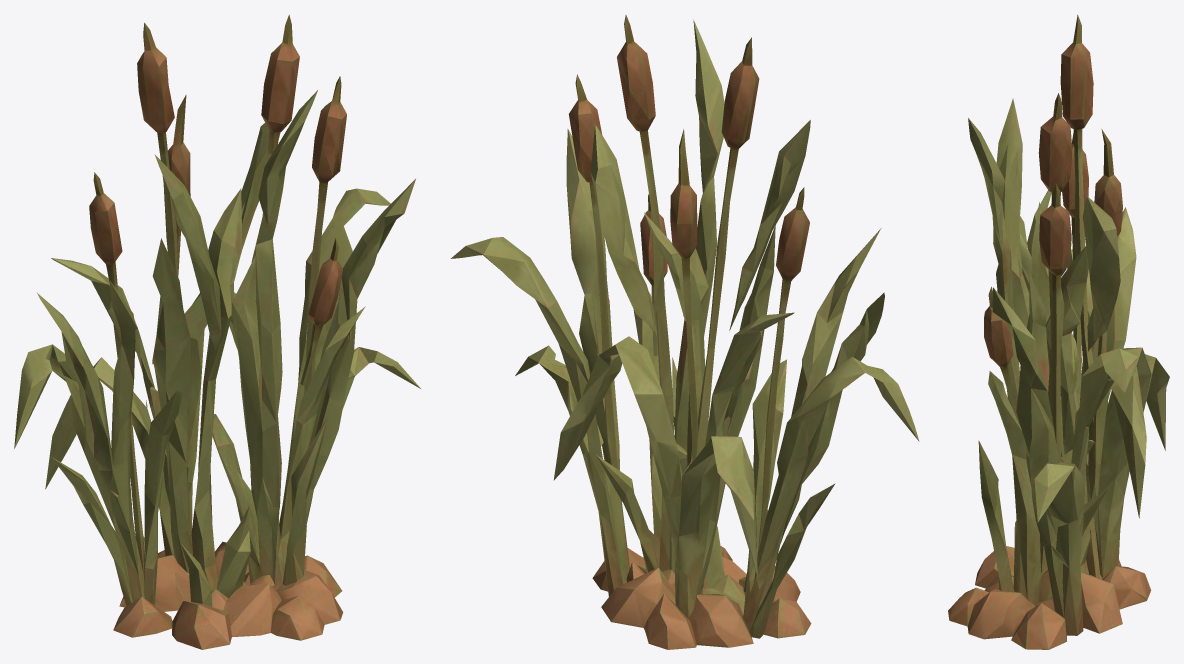
The model's file is plants-reeds.glb.
3 renders of one model, left to right at view 1: azimuth 30°, elevation 25°; view 2: azimuth 150°, elevation 25°; view 3: azimuth 270°, elevation 25°, orthographic. The views are drawn at different scales.
Bounding box in the file's own units: 1.42 × 1.9 × 0.6867.
1 material, 1 textured.
